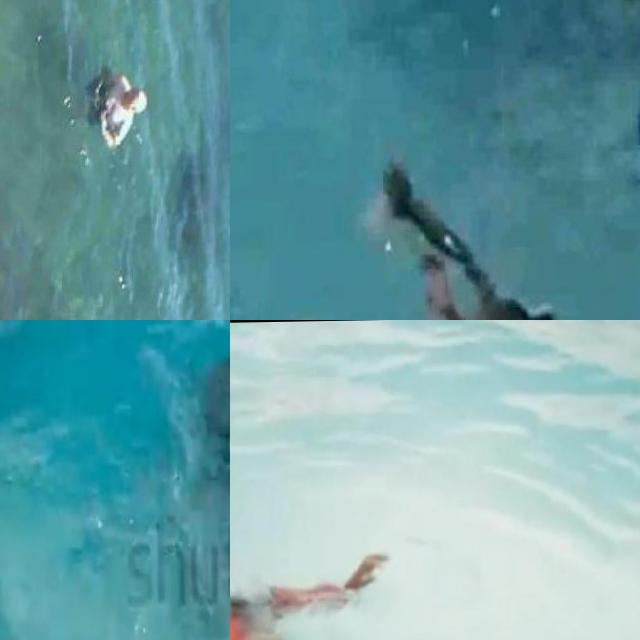drowning: (351, 131, 573, 320), (230, 537, 398, 640)
swimming: (78, 65, 154, 162)
